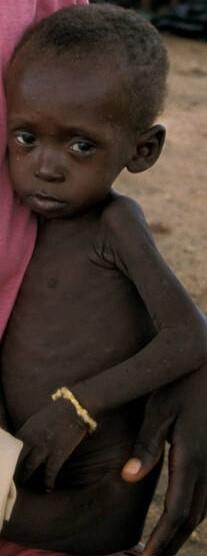Stunting: (0, 14, 200, 244)
